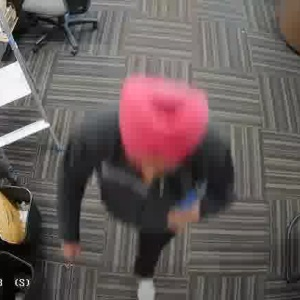person: (64, 76, 222, 295)
